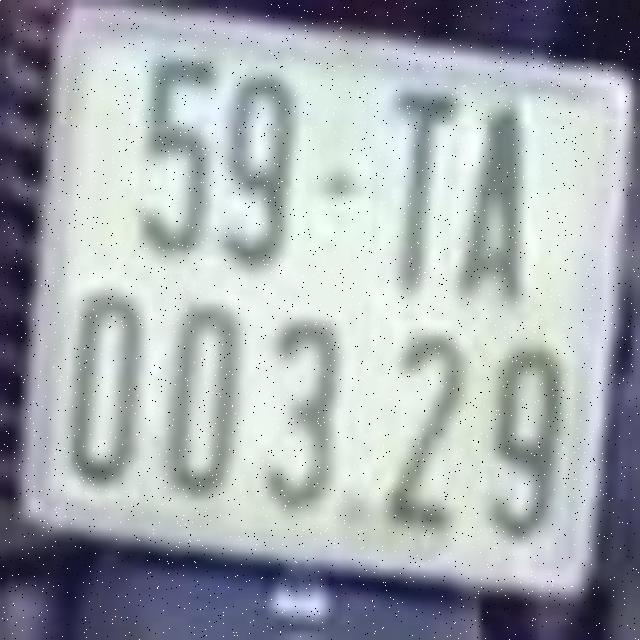0: (65, 285, 142, 485), (164, 296, 240, 497)
2: (387, 326, 463, 531)
3: (262, 310, 340, 510)
5: (136, 50, 215, 255)
9: (486, 339, 564, 539), (223, 67, 295, 268)
A: (459, 98, 530, 304)
T: (390, 88, 459, 294)
